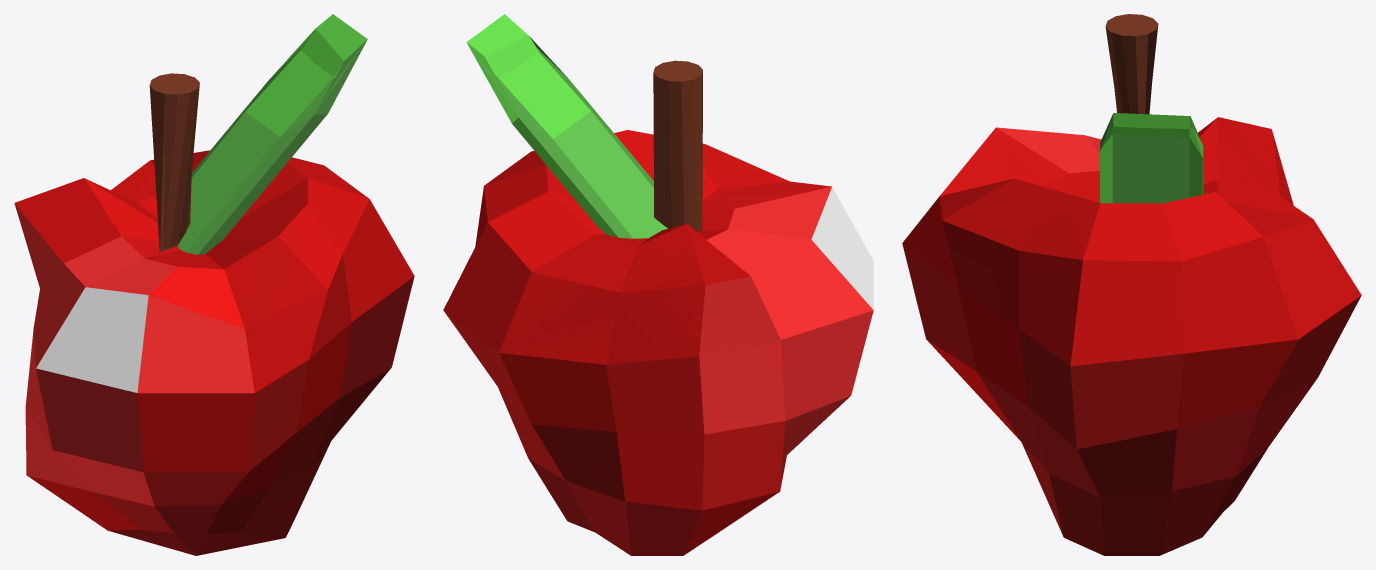
The model's file is Bonus_ShortSlowdown (2).fbx.
3 views of the same model, side by side, from view 1: azimuth 30°, elevation 25°; view 2: azimuth 150°, elevation 25°; view 3: azimuth 270°, elevation 25° (orthographic). The views are drawn at different scales.
Visible parts, largest first — view 1: sphere, beveled_cuboid, cylinder; view 2: sphere, beveled_cuboid, cylinder; view 3: sphere, beveled_cuboid, cylinder.
Part boxes in pixels (left/top/right/bottom): sphere: left=14, top=150, right=414, bottom=555; beveled_cuboid: left=178, top=14, right=367, bottom=254; cylinder: left=149, top=73, right=199, bottom=252; sphere: left=443, top=130, right=873, bottom=555; beveled_cuboid: left=466, top=14, right=667, bottom=238; cylinder: left=653, top=60, right=702, bottom=231; sphere: left=902, top=117, right=1361, bottom=555; beveled_cuboid: left=1100, top=113, right=1203, bottom=203; cylinder: left=1105, top=14, right=1158, bottom=114.
Size of the model in its own units: 112 by 136 by 112.
